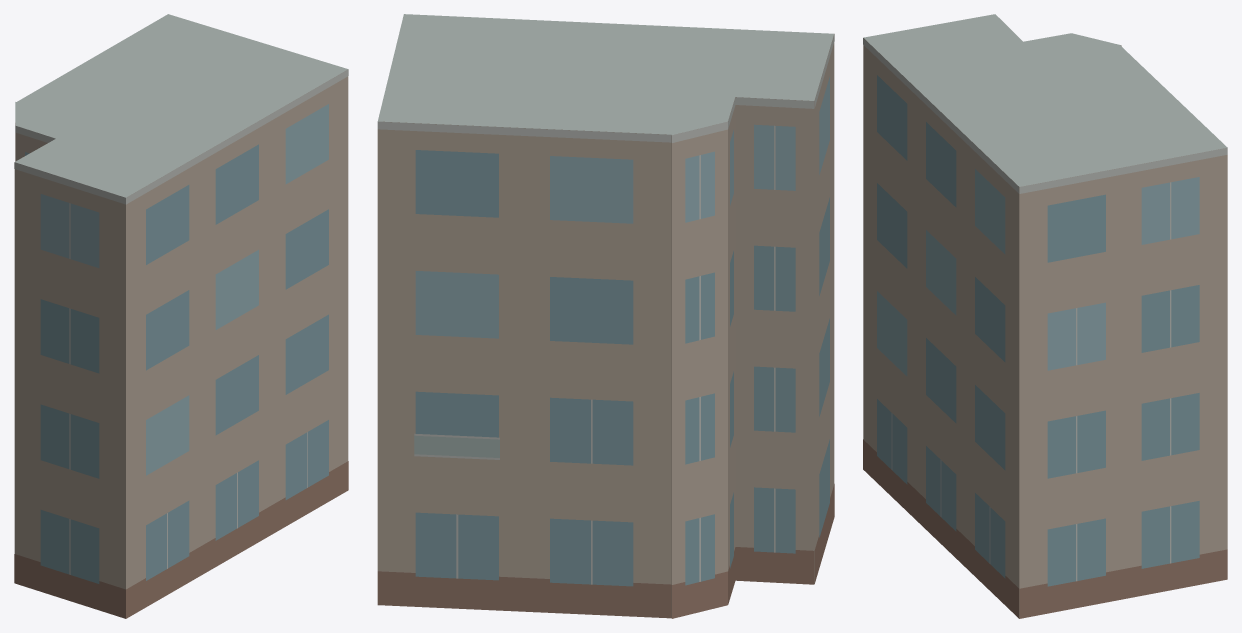
File: survey-upis-32582593.glb
The picture shows the model from 3 angles, left to right: view 1: azimuth 30°, elevation 25°; view 2: azimuth 150°, elevation 25°; view 3: azimuth 270°, elevation 25°; orthographic projection. The views are drawn at different scales.
Parts seen in each view (by area): view 1: survey-upis-32582593.tmp; view 2: survey-upis-32582593.tmp; view 3: survey-upis-32582593.tmp.
Part boxes in pixels (x1,y1,x2,y2): survey-upis-32582593.tmp: (14,14,348,618); survey-upis-32582593.tmp: (377,14,834,618); survey-upis-32582593.tmp: (863,14,1227,618).
Bounding box in the file's own units: 12.81 × 14.9 × 11.41.
